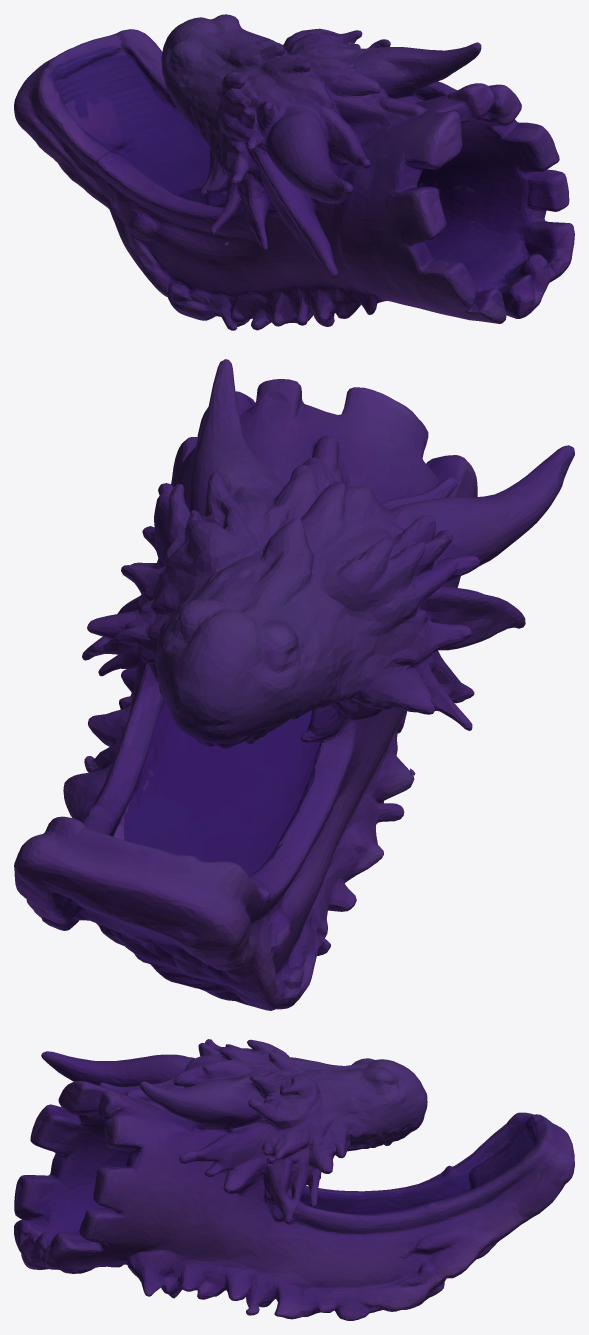
The model's file is purple-dragon-castle.glb.
3 renders of one model, top to bottom at view 1: azimuth 30°, elevation 25°; view 2: azimuth 150°, elevation 25°; view 3: azimuth 270°, elevation 25°, orthographic. The views are drawn at different scales.
Parts seen in each view (by area): view 1: purple dragon castle_textured.obj; view 2: purple dragon castle_textured.obj; view 3: purple dragon castle_textured.obj.
Boxes of the visible parts, <box> form: purple dragon castle_textured.obj: <box>14,14,574,330</box>; purple dragon castle_textured.obj: <box>14,359,574,1010</box>; purple dragon castle_textured.obj: <box>14,1039,574,1320</box>.
Bounding box in the file's own units: 1.08 × 1.1 × 1.99.
Materials: 1 (1 with a texture image).
